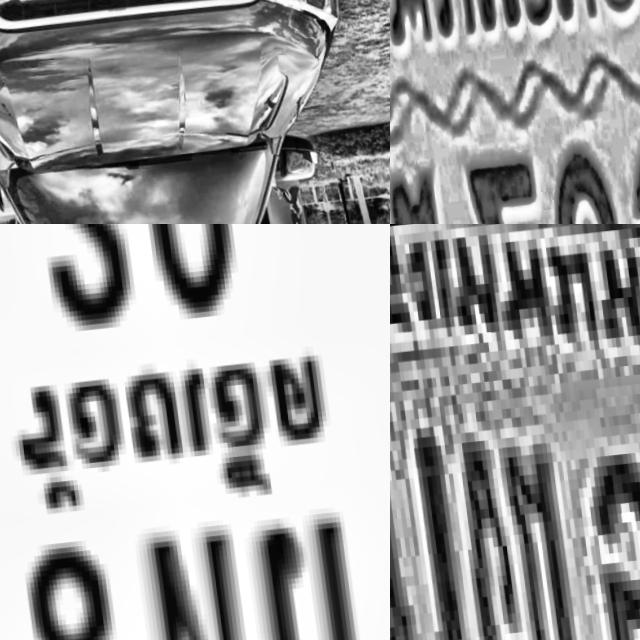license-plate: (0, 224, 390, 640), (390, 224, 640, 640), (390, 0, 640, 224)
